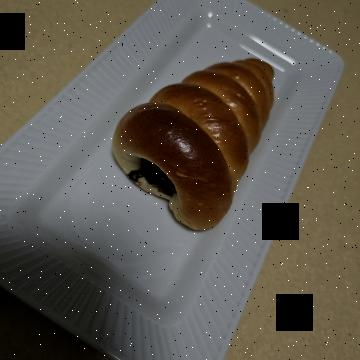cream horn: (38, 64, 252, 255)
